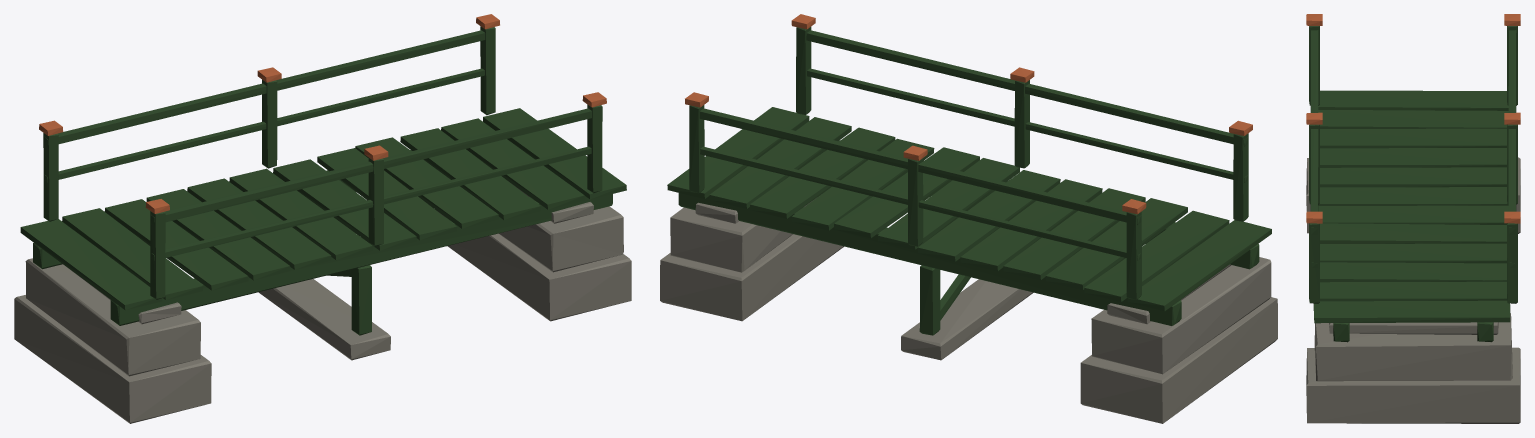
Rendered from bridge_segment_lod1.obj.
3 renders of one model, left to right at view 1: azimuth 30°, elevation 25°; view 2: azimuth 150°, elevation 25°; view 3: azimuth 270°, elevation 25°, orthographic. The views are drawn at different scales.
Parts seen in each view (by area): view 1: bridge_segment_lod1; view 2: bridge_segment_lod1; view 3: bridge_segment_lod1.
Boxes of the visible parts, left/top/right/bottom form: bridge_segment_lod1: left=14, top=14, right=631, bottom=423; bridge_segment_lod1: left=660, top=14, right=1277, bottom=423; bridge_segment_lod1: left=1306, top=14, right=1520, bottom=423.
Bounding box in the file's own units: 5.98 × 2.39 × 2.38.
